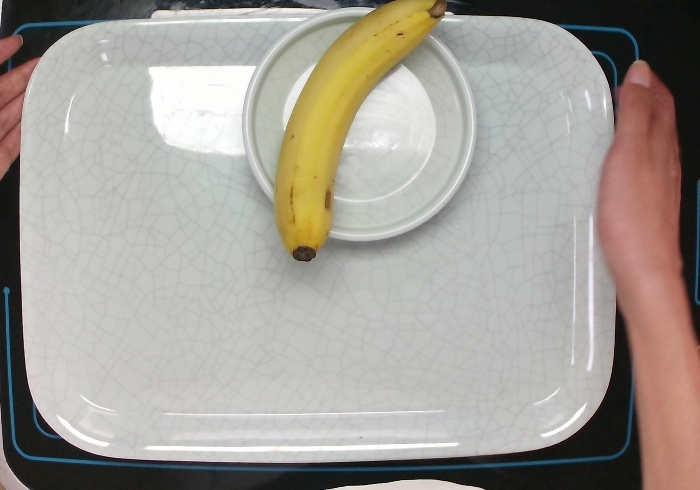JYsf-Xiao_Yuan_Pan: (240, 5, 479, 243)
